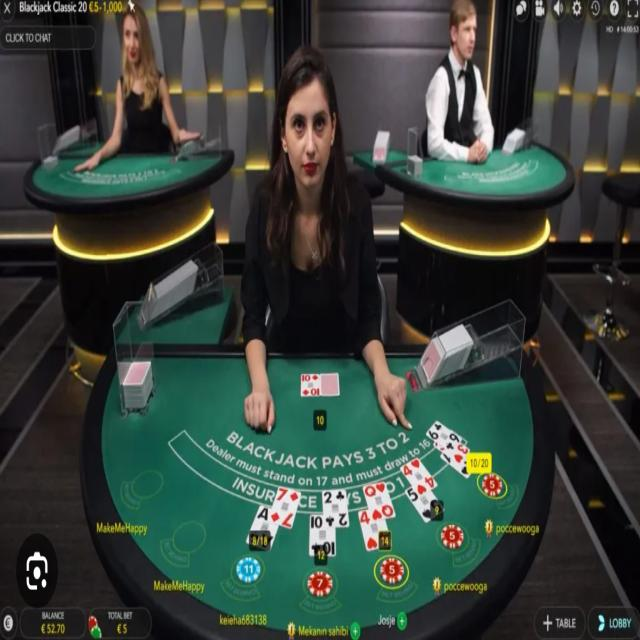Card-10: (309, 514, 336, 556), (301, 373, 320, 396)
Card-2: (323, 489, 349, 527)
Card-3: (433, 442, 470, 464)
Card-4: (400, 457, 438, 496), (358, 510, 392, 551)
Card-5: (405, 487, 445, 524)
Card-6: (426, 419, 462, 454)
Card-7: (270, 485, 301, 530)
Card-A: (246, 505, 278, 552)
Card-Q: (362, 480, 396, 521)
